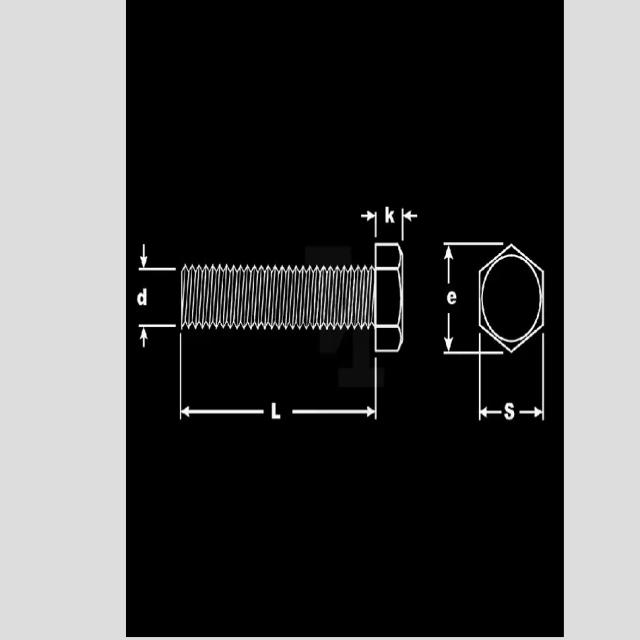marking_line: (181, 401, 267, 422), (290, 405, 374, 419), (399, 209, 418, 243), (360, 210, 380, 242), (440, 247, 456, 285), (442, 307, 455, 350), (139, 245, 156, 269), (482, 404, 502, 421), (520, 406, 542, 417), (138, 330, 151, 348)
